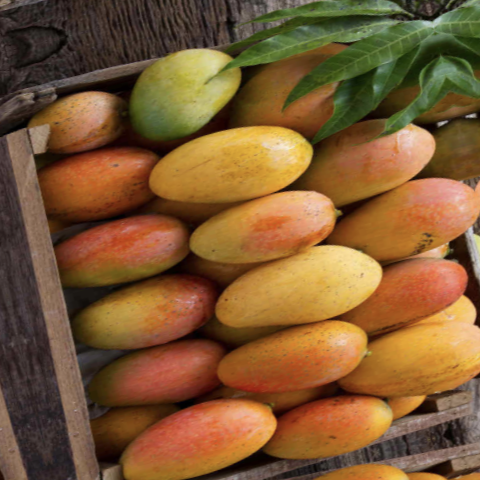mango: (189, 224, 402, 356), (134, 103, 333, 227), (306, 300, 480, 434), (21, 198, 220, 311), (208, 305, 385, 423), (314, 157, 480, 279), (108, 377, 302, 480), (187, 169, 357, 278), (102, 29, 253, 147), (87, 317, 251, 421), (239, 378, 402, 478)
